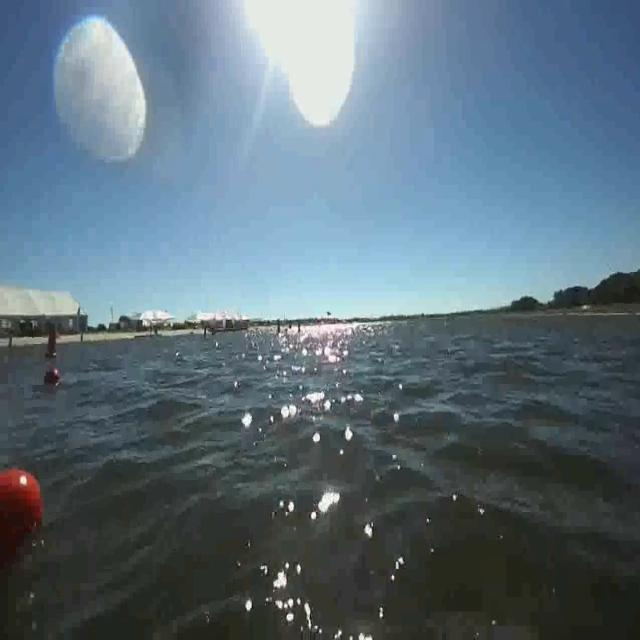red-buoy: (0, 469, 42, 552), (46, 370, 61, 386)
